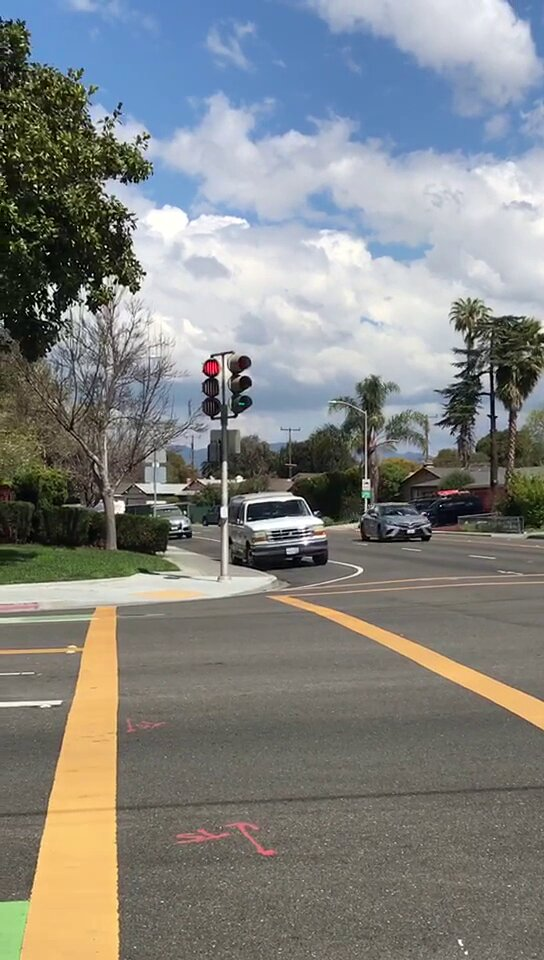red_light: (200, 359, 222, 417)
